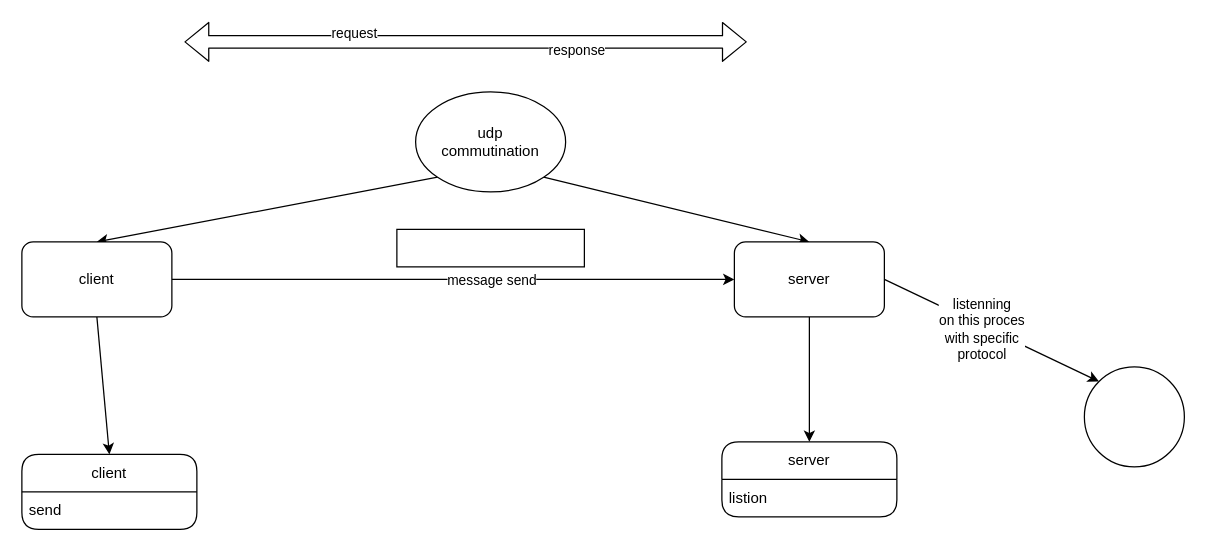
Image size: 1206x551. Some labels were removed from this diagram. The shapes that lost their labels are listed below. From the top down, each one's centre as x and y in pixels, then its label:
At [490,247]: "one way communication".
At [1133,416]: "PRocess".
